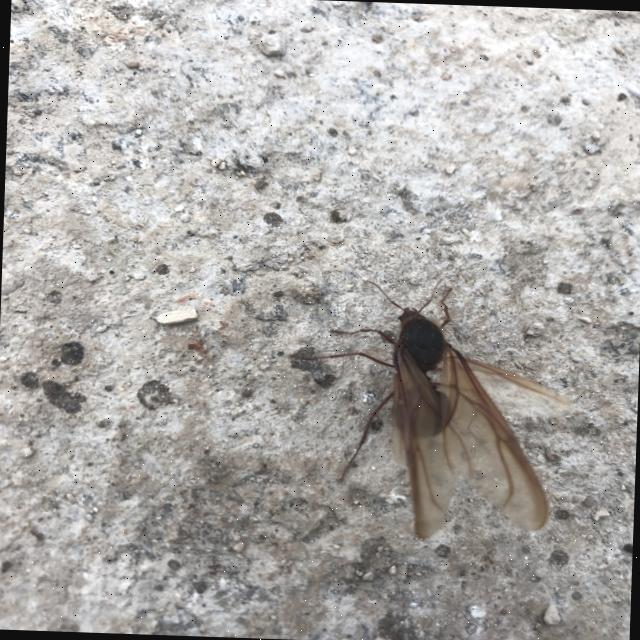Alive-Male-Alate: (281, 270, 578, 544)
